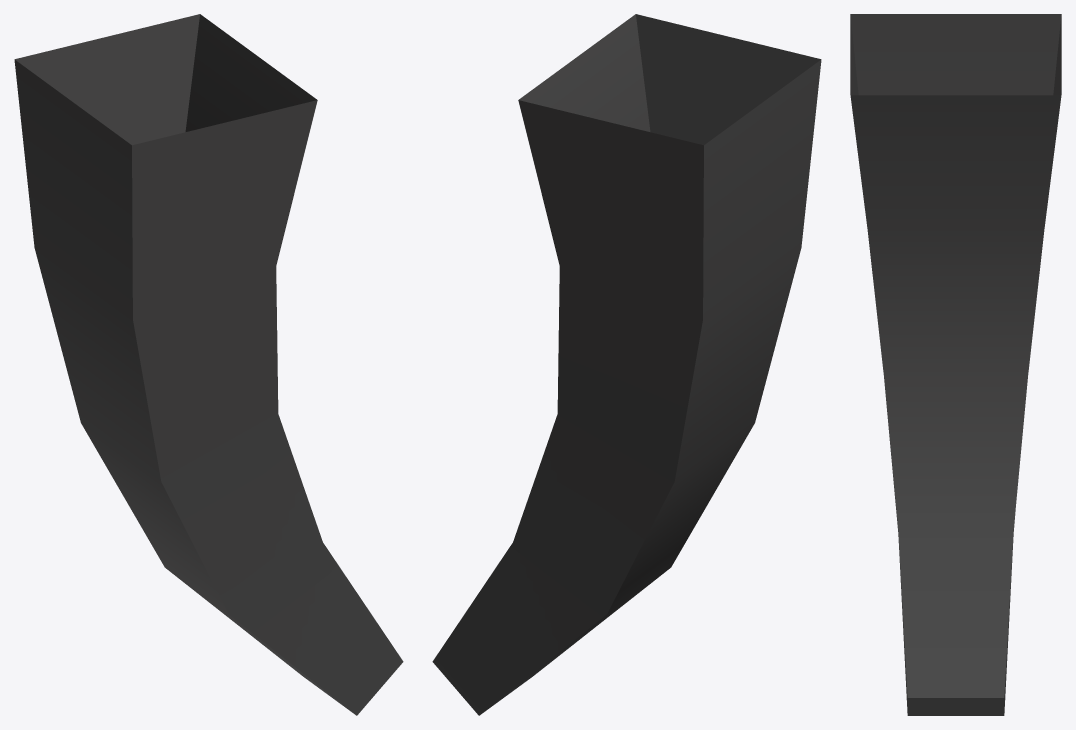
Rendered from SMG7_Trigger.fbx.
3 views of the same model, side by side, from view 1: azimuth 30°, elevation 25°; view 2: azimuth 150°, elevation 25°; view 3: azimuth 270°, elevation 25° (orthographic). The views are drawn at different scales.
Visible parts, largest first — view 1: SMG7_Trigger; view 2: SMG7_Trigger; view 3: SMG7_Trigger.
Boxes of the visible parts, bbox=[...] form: SMG7_Trigger: bbox=[14, 14, 403, 715]; SMG7_Trigger: bbox=[432, 14, 821, 715]; SMG7_Trigger: bbox=[850, 14, 1061, 715].
Bounding box in the file's own units: 1.88 × 3.89 × 1.26.
